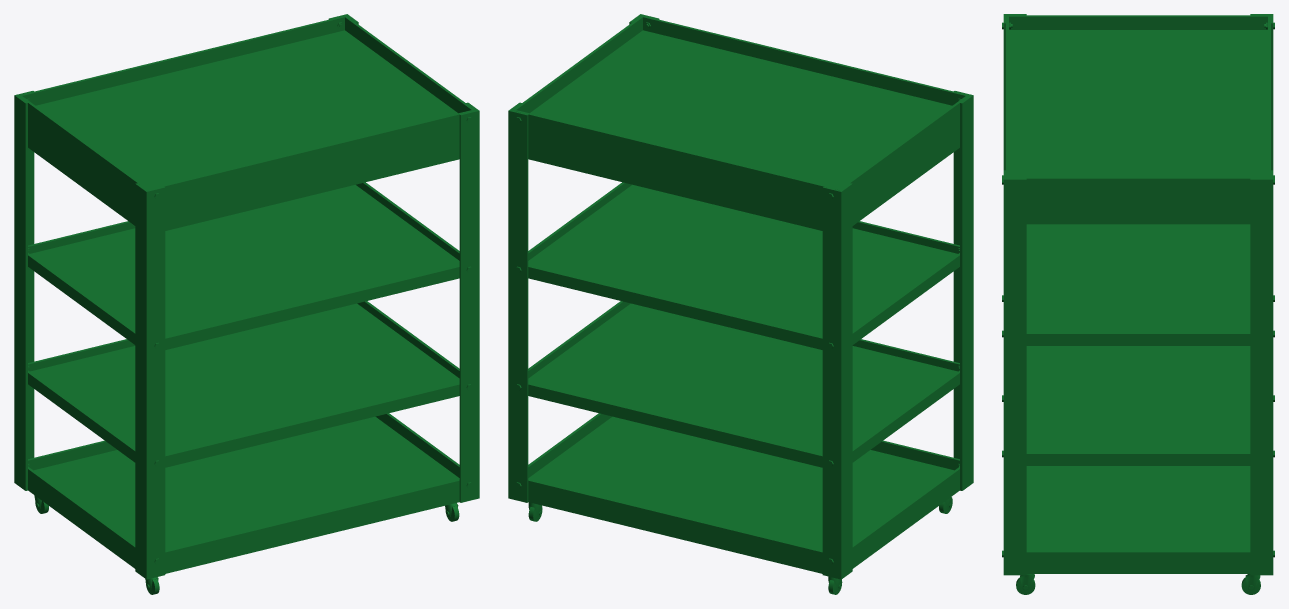
File: WJ_ZhiWuJia_v1.FBX
The picture shows the model from 3 angles, left to right: view 1: azimuth 30°, elevation 25°; view 2: azimuth 150°, elevation 25°; view 3: azimuth 270°, elevation 25°; orthographic projection. The views are drawn at different scales.
Parts seen in each view (by area): view 1: WJ_ZhiWuJia_v1; view 2: WJ_ZhiWuJia_v1; view 3: WJ_ZhiWuJia_v1.
Part boxes in pixels (x1,y1,x2,y2): WJ_ZhiWuJia_v1: (14,14,479,594); WJ_ZhiWuJia_v1: (508,14,973,594); WJ_ZhiWuJia_v1: (1002,14,1274,594).
Size of the model in its own units: 80 by 95 by 55.66.
